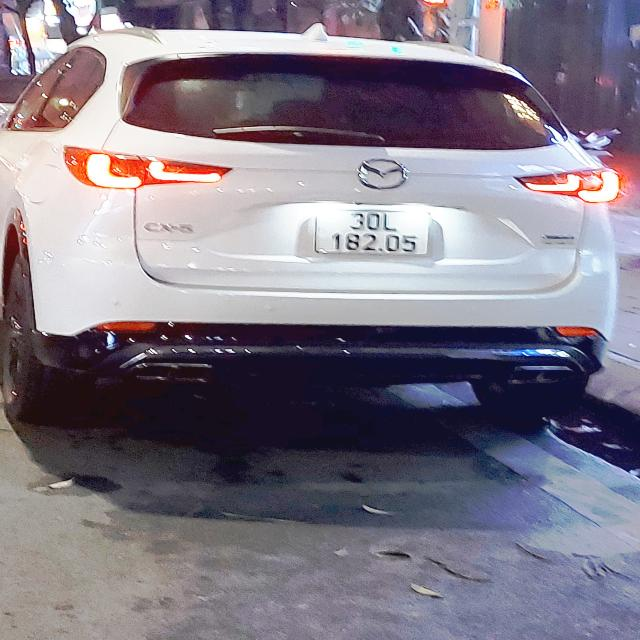license_plate: (306, 205, 440, 262)
